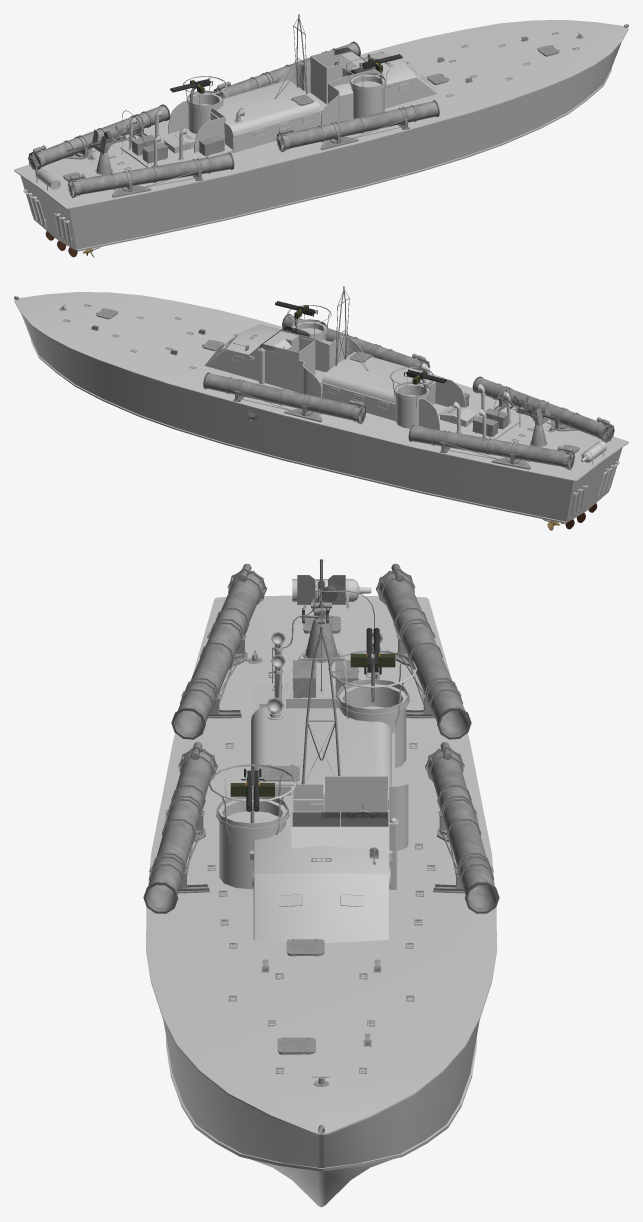
3 views of the same model, one above another, from view 1: azimuth 30°, elevation 25°; view 2: azimuth 150°, elevation 25°; view 3: azimuth 270°, elevation 25° (orthographic). The views are drawn at different scales.
Visible parts, largest first — view 1: Elco_80ft_PT_Hull_6, 533mm_Torpedo_tube_18, 533mm_Torpedo_tube.001_20, 533mm_Torpedo_tube.002_22, Metal_Props_16, 533mm_Torpedo_tube.004_25, AmmoBoxes_15, 20mm_Oerlikon_mount_1, 20mm_Oerlikon_gun_0; view 2: Elco_80ft_PT_Hull_6, 533mm_Torpedo_tube.002_22, 533mm_Torpedo_tube.004_25, 533mm_Torpedo_tube_18, Metal_Props_16, 533mm_Torpedo_tube.001_20, AmmoBoxes_15, 20mm_Oerlikon_mount_1, 20mm_Oerlikon_gun_0; view 3: Elco_80ft_PT_Hull_6, 533mm_Torpedo_tube_18, 533mm_Torpedo_tube.002_22, Metal_Props_16, 533mm_Torpedo_tube.004_25, 533mm_Torpedo_tube.001_20, 20mm_Oerlikon_mount_1, Glass_8, AmmoBoxes_15, 50-Cal_MachineGun_gun.001_4, 50-Cal_MachineGun_gun_2.
Part boxes in pixels (box(x1,y1,x2,y2)): Elco_80ft_PT_Hull_6: box(14, 20, 628, 251); 533mm_Torpedo_tube_18: box(68, 152, 234, 198); 533mm_Torpedo_tube.001_20: box(276, 100, 439, 152); 533mm_Torpedo_tube.002_22: box(27, 104, 170, 169); Metal_Props_16: box(63, 14, 628, 181); 533mm_Torpedo_tube.004_25: box(213, 41, 360, 97); AmmoBoxes_15: box(131, 134, 224, 163); 20mm_Oerlikon_mount_1: box(92, 129, 117, 175); 20mm_Oerlikon_gun_0: box(67, 124, 137, 151); Elco_80ft_PT_Hull_6: box(14, 292, 628, 523); 533mm_Torpedo_tube.002_22: box(408, 425, 574, 470); 533mm_Torpedo_tube.004_25: box(203, 372, 366, 424); 533mm_Torpedo_tube_18: box(472, 376, 614, 442); Metal_Props_16: box(14, 286, 579, 453); 533mm_Torpedo_tube.001_20: box(282, 313, 430, 371); AmmoBoxes_15: box(463, 392, 509, 437); 20mm_Oerlikon_mount_1: box(525, 401, 550, 447); 20mm_Oerlikon_gun_0: box(508, 396, 575, 423); Elco_80ft_PT_Hull_6: box(146, 578, 496, 1207); 533mm_Torpedo_tube_18: box(171, 563, 266, 739); 533mm_Torpedo_tube.002_22: box(376, 563, 471, 739); Metal_Props_16: box(207, 590, 435, 1133); 533mm_Torpedo_tube.004_25: box(425, 741, 499, 913); 533mm_Torpedo_tube.001_20: box(143, 741, 217, 913); 20mm_Oerlikon_mount_1: box(297, 575, 345, 662); Glass_8: box(293, 812, 387, 826); AmmoBoxes_15: box(259, 660, 358, 708); 50-Cal_MachineGun_gun.001_4: box(350, 627, 395, 674); 50-Cal_MachineGun_gun_2: box(230, 768, 274, 811).
Size of the model in its own units: 24.02 by 7.11 by 6.3.
